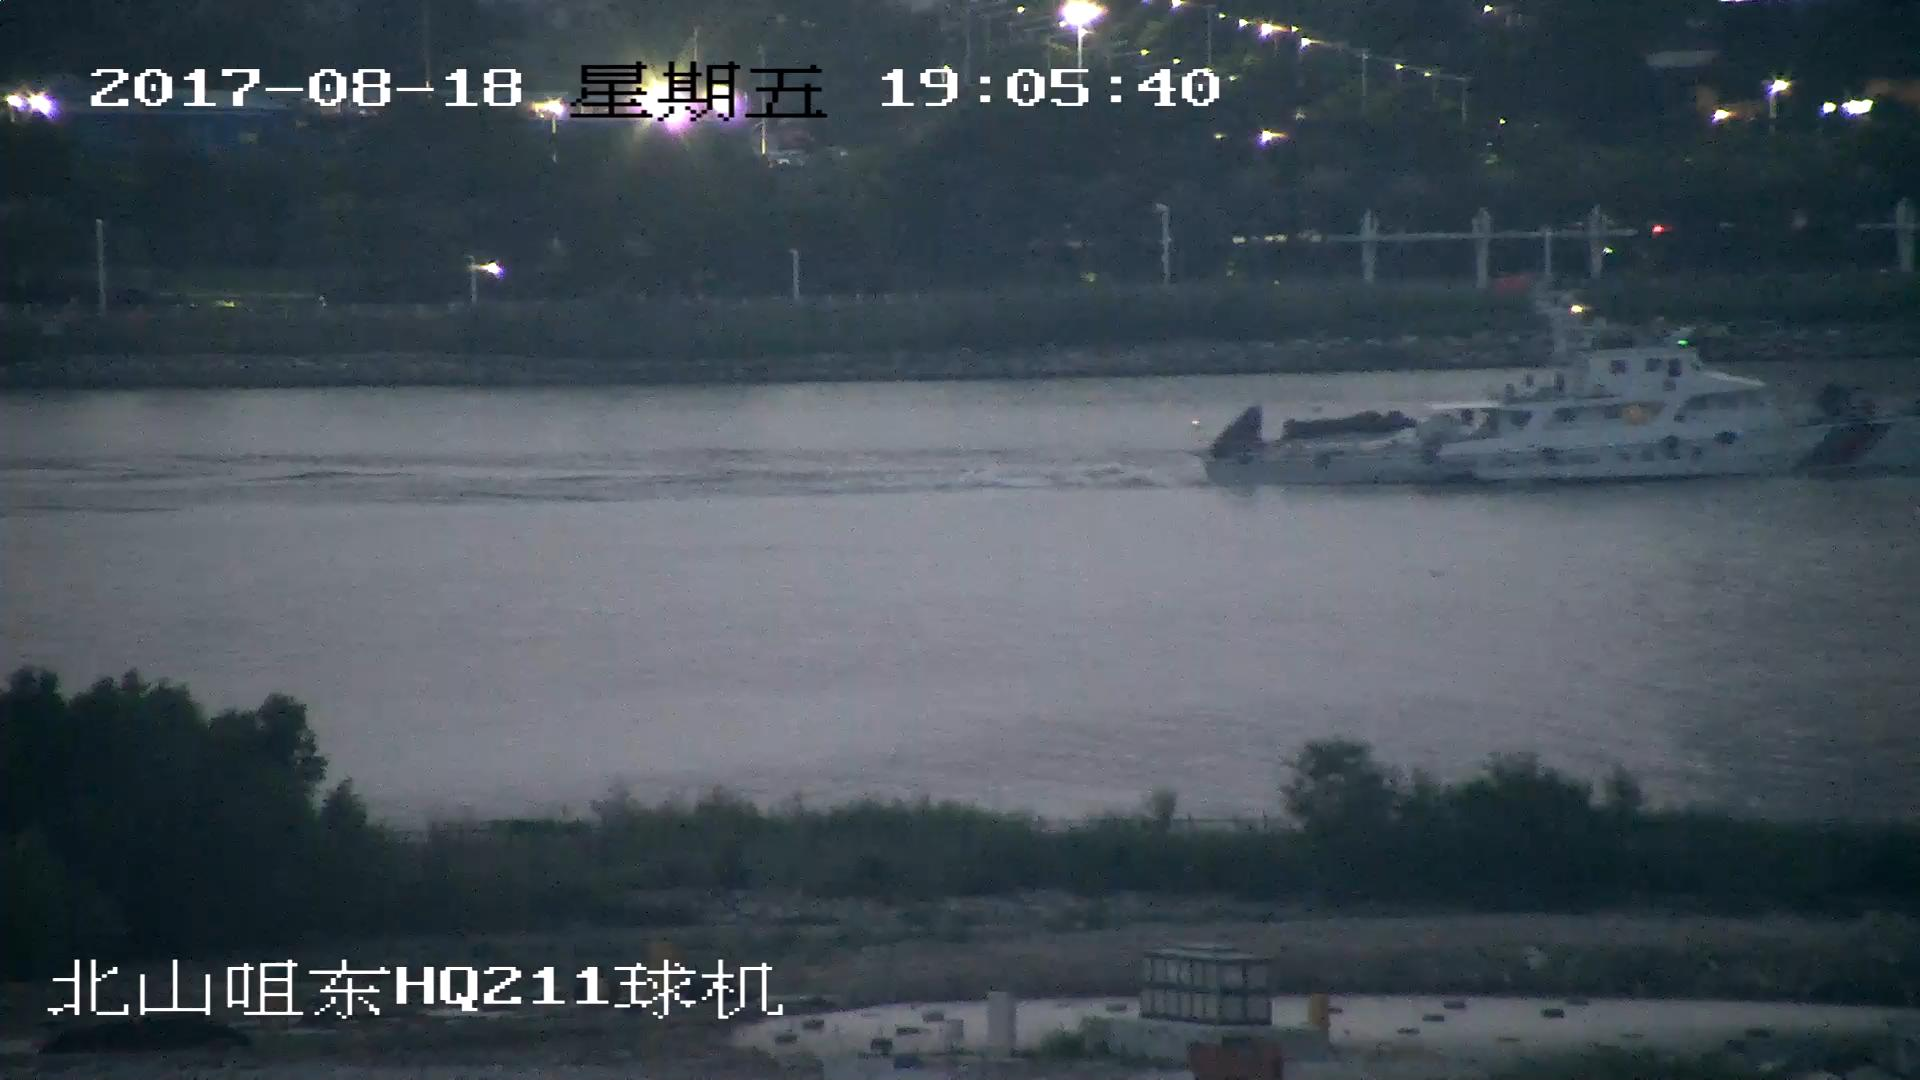passenger ship: (1204, 296, 1910, 486)
